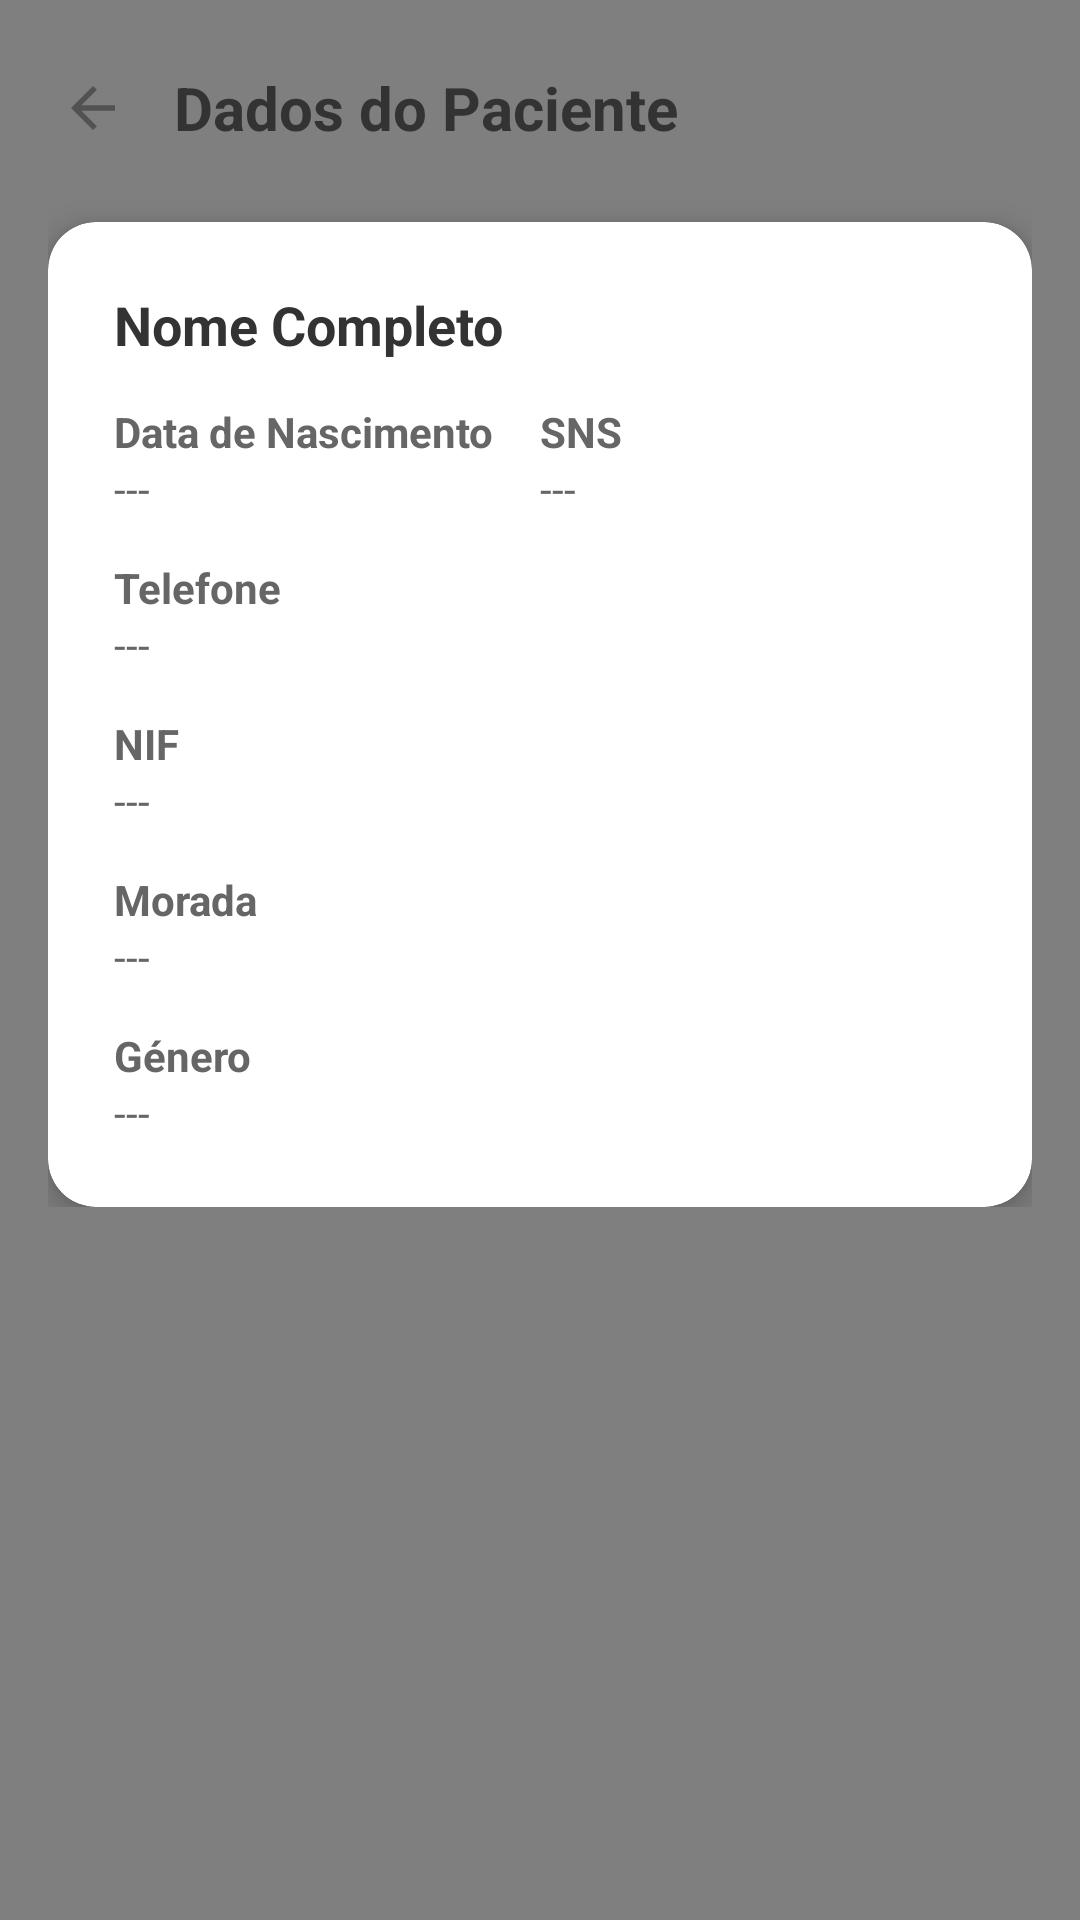

Where icons sit on this 1080px×1920px app screen, as detection(x1, y1, x2, y2):
voltaratras: detection(72, 87, 115, 129)
